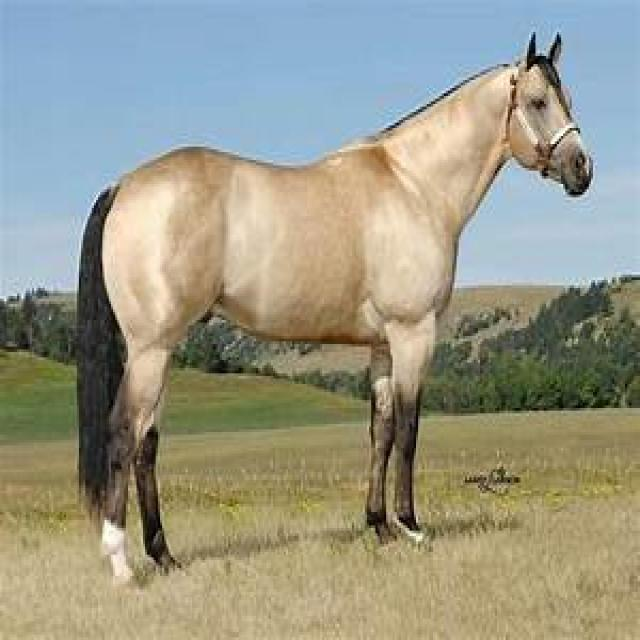horse: (73, 29, 593, 587)
